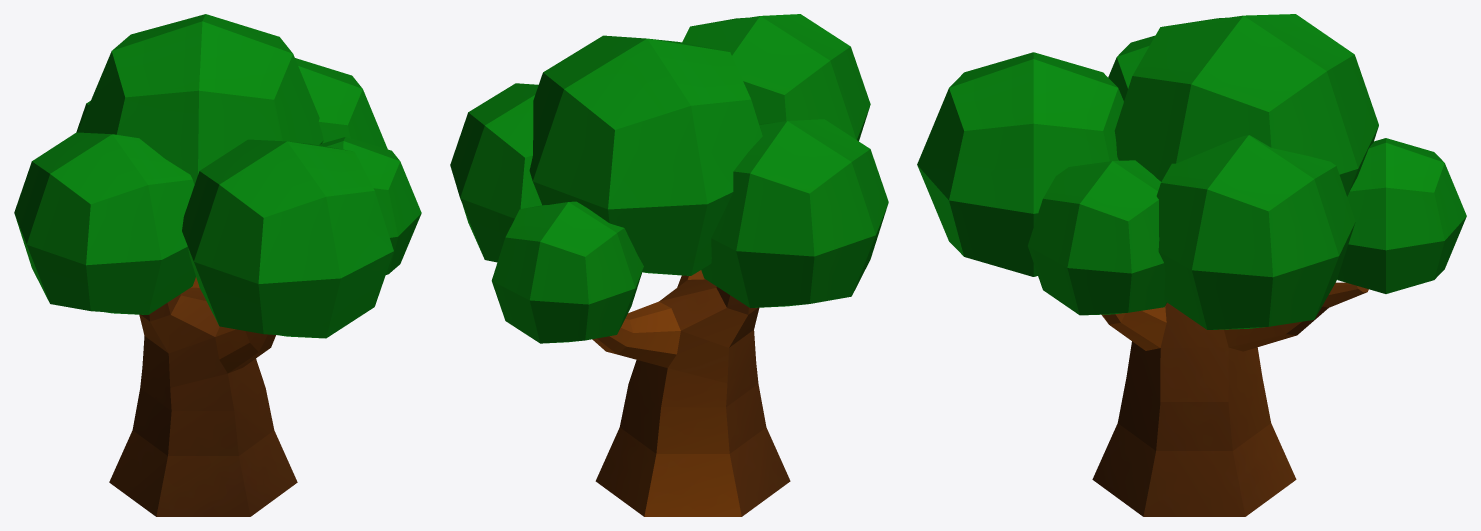
The model's file is Prop_tree_forest_02.fbx.
3 views of the same model, side by side, from view 1: azimuth 30°, elevation 25°; view 2: azimuth 150°, elevation 25°; view 3: azimuth 270°, elevation 25° (orthographic). The views are drawn at different scales.
Parts seen in each view (by area): view 1: Cylinder; view 2: Cylinder; view 3: Cylinder.
Boxes of the visible parts, <box> form: Cylinder: <box>14,14,421,516</box>; Cylinder: <box>450,14,888,516</box>; Cylinder: <box>917,14,1466,516</box>.
Bounding box in the file's own units: 662 × 740 × 776.
